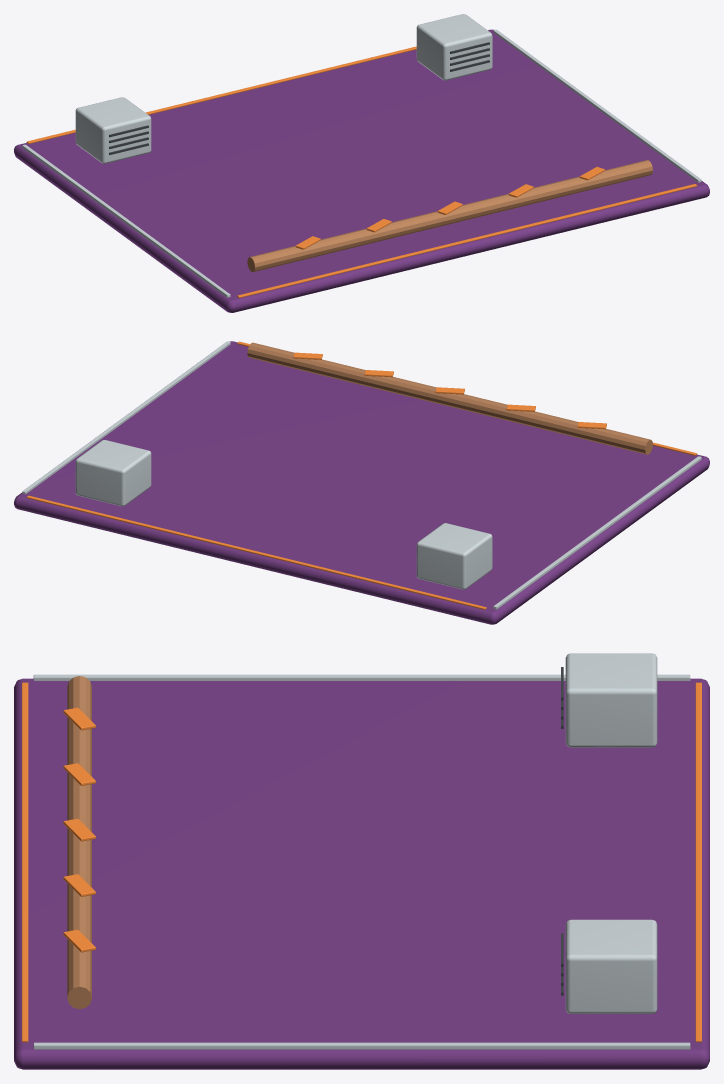
The model's file is arena-rooftop.glb.
The picture shows the model from 3 angles, top to bottom: view 1: azimuth 30°, elevation 25°; view 2: azimuth 150°, elevation 25°; view 3: azimuth 270°, elevation 25°; orthographic projection. The views are drawn at different scales.
Visible parts, largest first — view 1: Arena slab.001, Roof pipe, Vent unit, Vent unit.001, Orange safety edge.002, Aluminium edge.002, Aluminium edge.003, Orange safety edge.003; view 2: Arena slab.001, Roof pipe, Vent unit, Vent unit.001, Orange safety edge.003, Aluminium edge.002, Aluminium edge.003; view 3: Arena slab.001, Vent unit, Vent unit.001, Roof pipe, Aluminium edge.003, Aluminium edge.002, Orange safety edge.002, Orange safety edge.003.
Part boxes in pixels (bbox=[...]): Arena slab.001: bbox=[14, 29, 709, 312]; Roof pipe: bbox=[247, 160, 652, 271]; Vent unit: bbox=[75, 97, 151, 163]; Vent unit.001: bbox=[416, 14, 492, 80]; Orange safety edge.002: bbox=[237, 184, 697, 298]; Aluminium edge.002: bbox=[22, 144, 230, 297]; Aluminium edge.003: bbox=[493, 29, 701, 182]; Orange safety edge.003: bbox=[26, 46, 416, 143]; Arena slab.001: bbox=[14, 341, 709, 624]; Roof pipe: bbox=[247, 342, 652, 454]; Vent unit: bbox=[416, 523, 492, 589]; Vent unit.001: bbox=[75, 440, 151, 506]; Orange safety edge.003: bbox=[26, 495, 486, 609]; Aluminium edge.002: bbox=[493, 456, 701, 609]; Aluminium edge.003: bbox=[22, 341, 230, 494]; Arena slab.001: bbox=[14, 678, 709, 1069]; Vent unit: bbox=[565, 653, 657, 747]; Vent unit.001: bbox=[565, 919, 657, 1013]; Roof pipe: bbox=[67, 676, 91, 1009]; Aluminium edge.003: bbox=[33, 1042, 690, 1049]; Aluminium edge.002: bbox=[33, 674, 690, 680]; Orange safety edge.002: bbox=[22, 682, 28, 1042]; Orange safety edge.003: bbox=[695, 682, 701, 1042].
Bounding box in the file's own units: 13.6 × 1.36 × 10.6.
